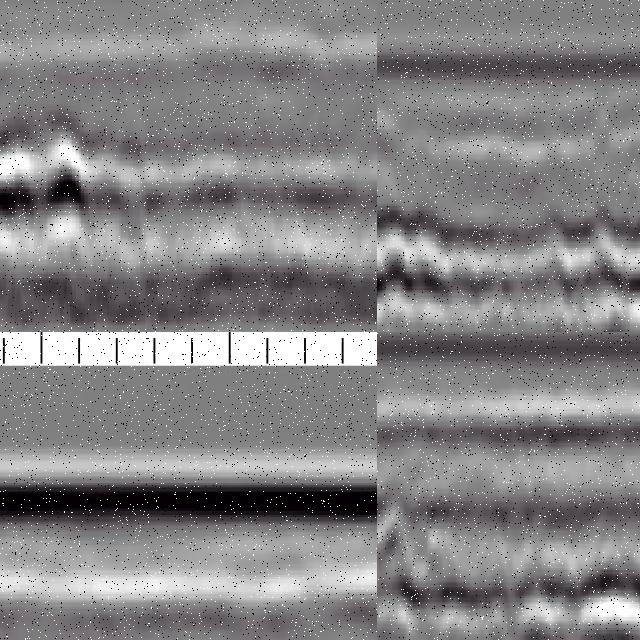loose: (378, 485, 640, 638), (1, 109, 141, 251), (378, 198, 505, 331), (548, 196, 640, 333)
